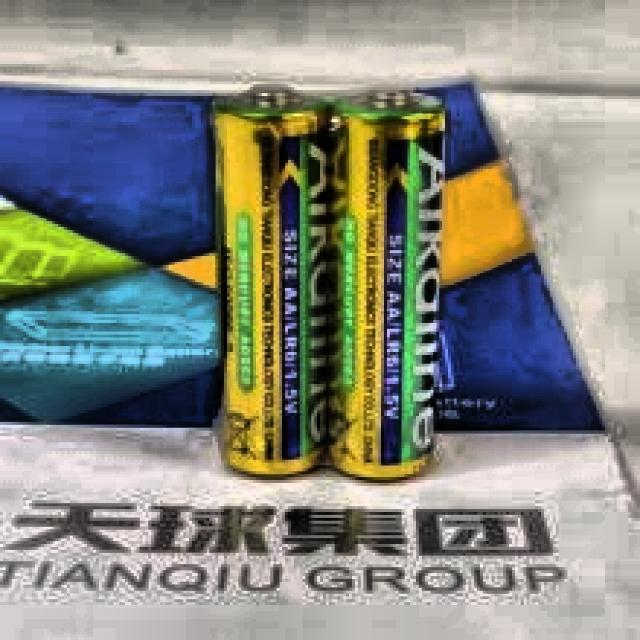Non-Valuable Waste - Batteries: (212, 88, 328, 476), (331, 92, 444, 478)
